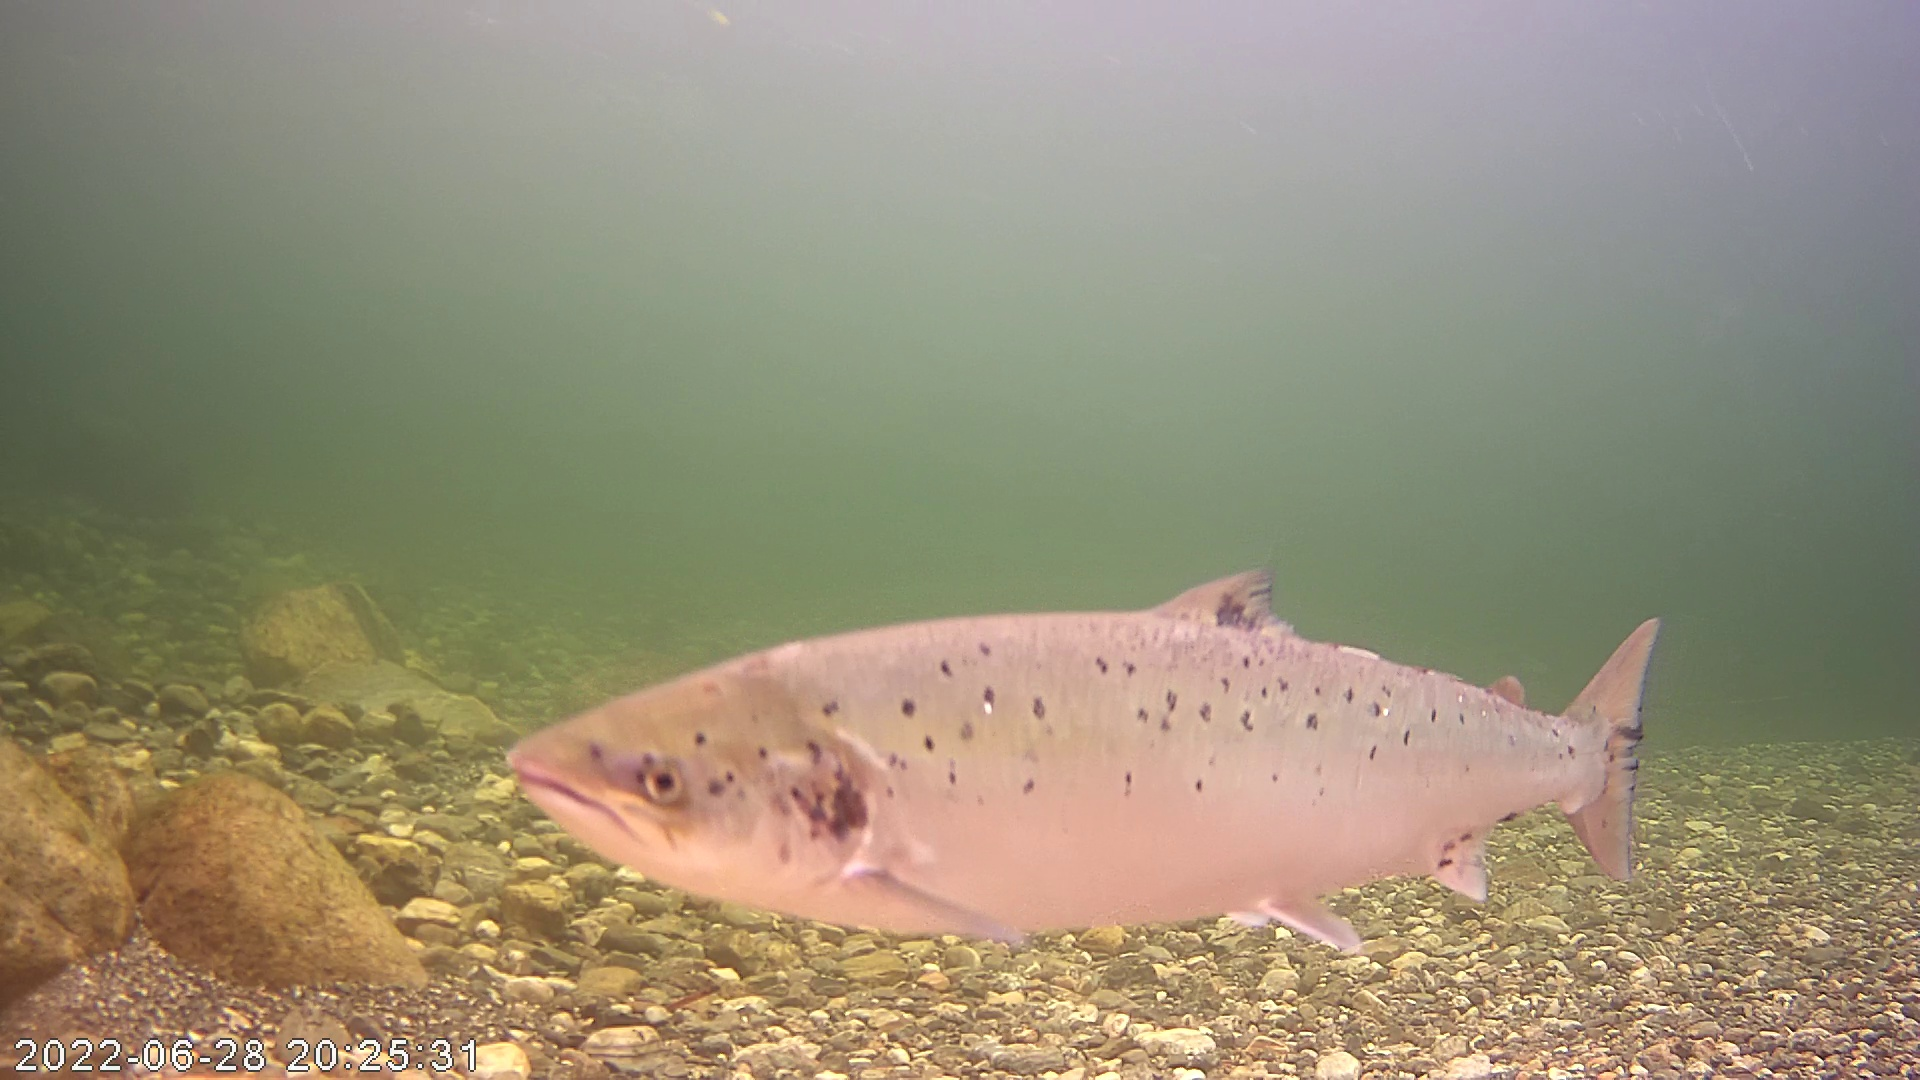salmon: (492, 553, 1665, 963)
